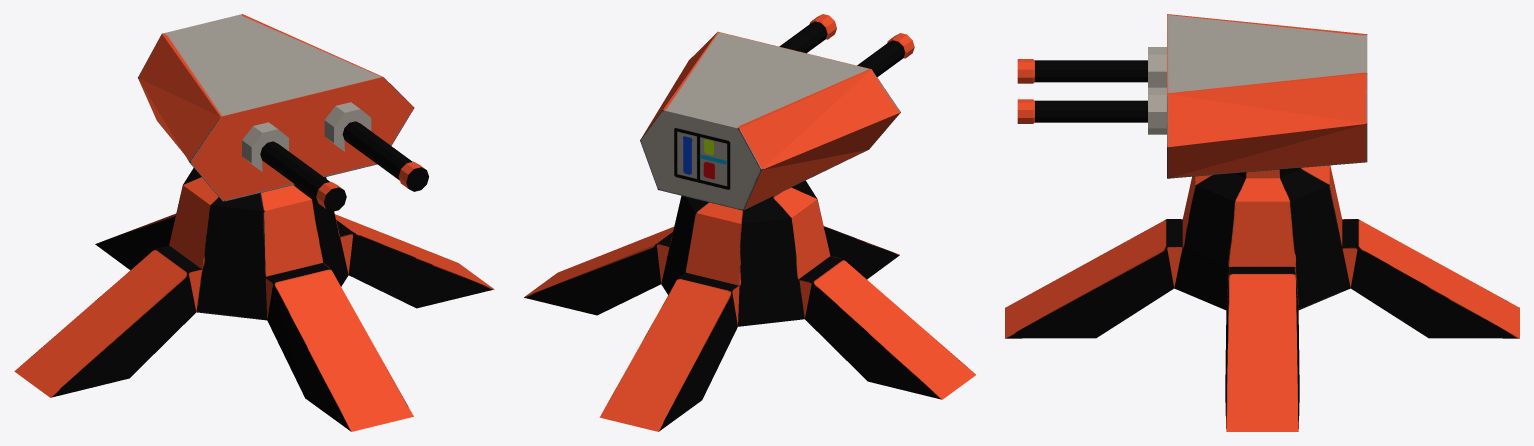
Rendered from Gun_turret-sketch.fbx.
3 renders of one model, left to right at view 1: azimuth 30°, elevation 25°; view 2: azimuth 150°, elevation 25°; view 3: azimuth 270°, elevation 25°, orthographic. The views are drawn at different scales.
Visible parts, largest first — view 1: Turret_base, Turret_top; view 2: Turret_base, Turret_top; view 3: Turret_base, Turret_top.
Boxes of the visible parts, x1,y1,x2,y2 form: Turret_base: (14,168,494,431); Turret_top: (138,14,428,211); Turret_base: (524,180,975,431); Turret_top: (640,14,914,210); Turret_base: (1005,165,1519,431); Turret_top: (1017,14,1367,178).
Bounding box in the file's own units: 194 × 112 × 194.
1 material, 1 textured.
